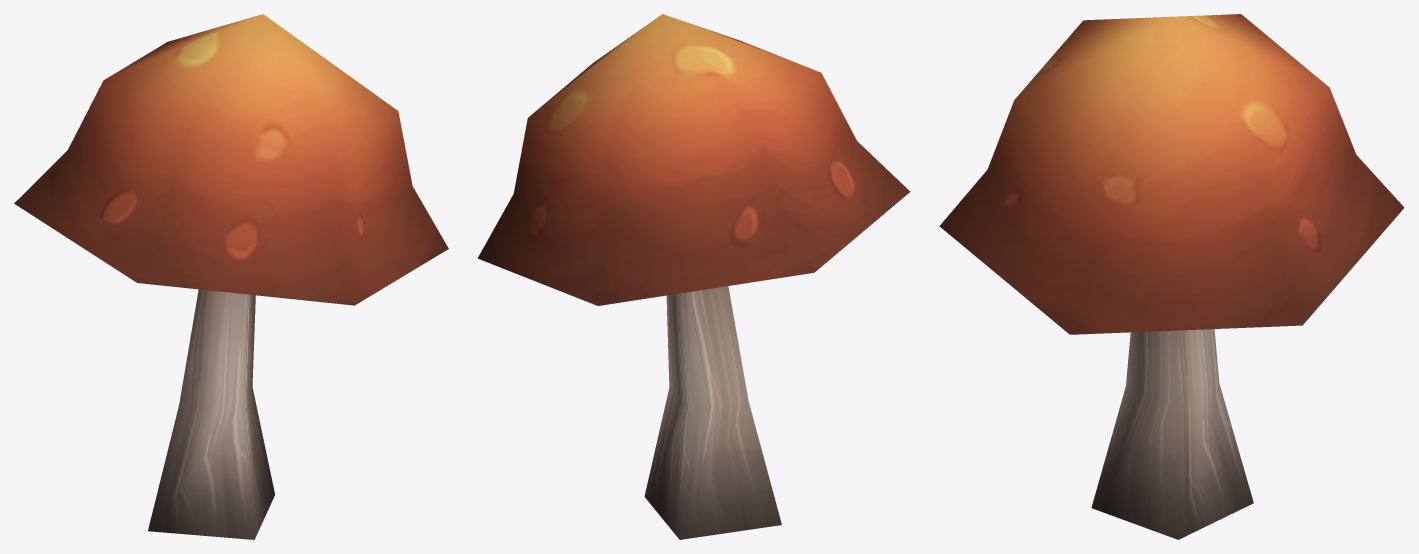
Rendered from fungus_01.fbx.
The picture shows the model from 3 angles, left to right: view 1: azimuth 30°, elevation 25°; view 2: azimuth 150°, elevation 25°; view 3: azimuth 270°, elevation 25°; orthographic projection. The views are drawn at different scales.
Visible parts, largest first — view 1: fungus_01:Mesh; view 2: fungus_01:Mesh; view 3: fungus_01:Mesh.
Part boxes in pixels (x1,y1,x2,y2): fungus_01:Mesh: (14, 14, 448, 539); fungus_01:Mesh: (477, 14, 910, 539); fungus_01:Mesh: (939, 14, 1404, 539).
Size of the model in its own units: 1.29 by 1.77 by 1.44.
